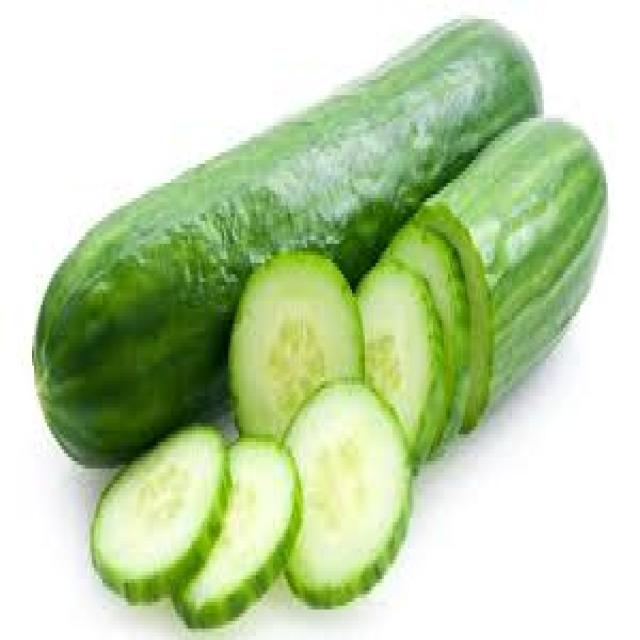Pickle: (34, 22, 538, 463), (416, 123, 606, 427), (285, 384, 411, 606), (229, 252, 362, 436), (174, 438, 301, 626), (92, 431, 228, 600), (382, 221, 470, 436), (358, 261, 445, 461)
